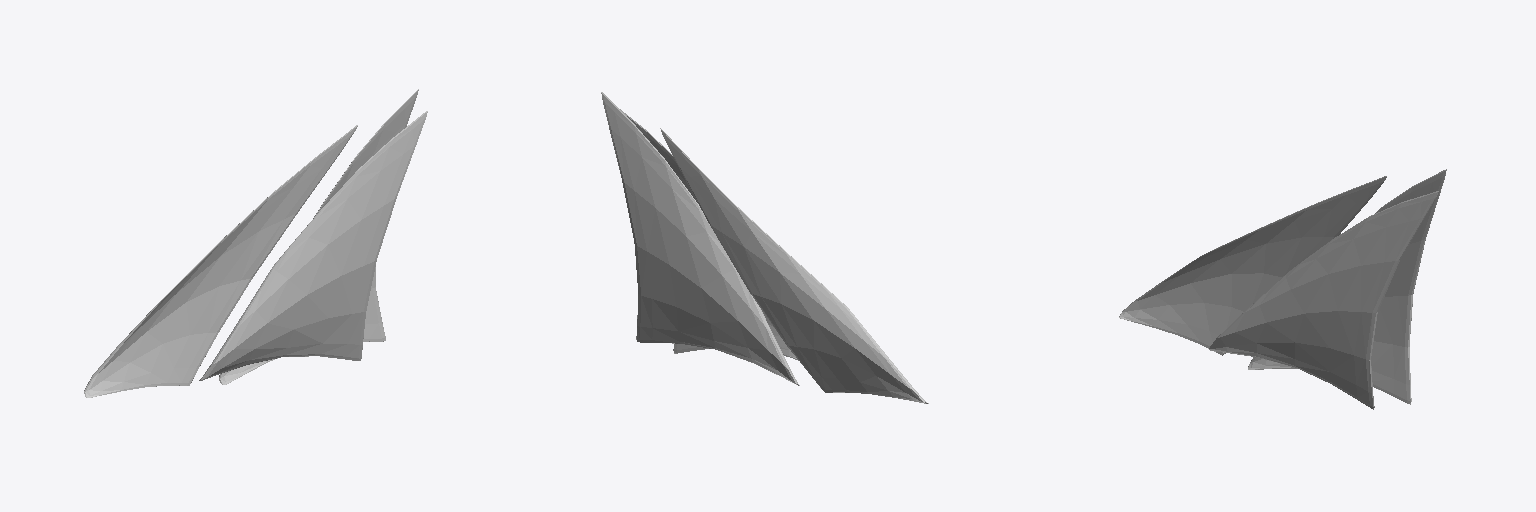
Rendered from sails_temporary.obj.
3 renders of one model, left to right at view 1: azimuth 30°, elevation 25°; view 2: azimuth 150°, elevation 25°; view 3: azimuth 330°, elevation 25°, orthographic.
Bounding box in the file's own units: 25.36 × 18.39 × 3.58.